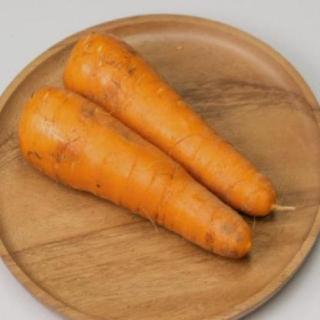carrot: (16, 85, 257, 265), (65, 27, 279, 221)
